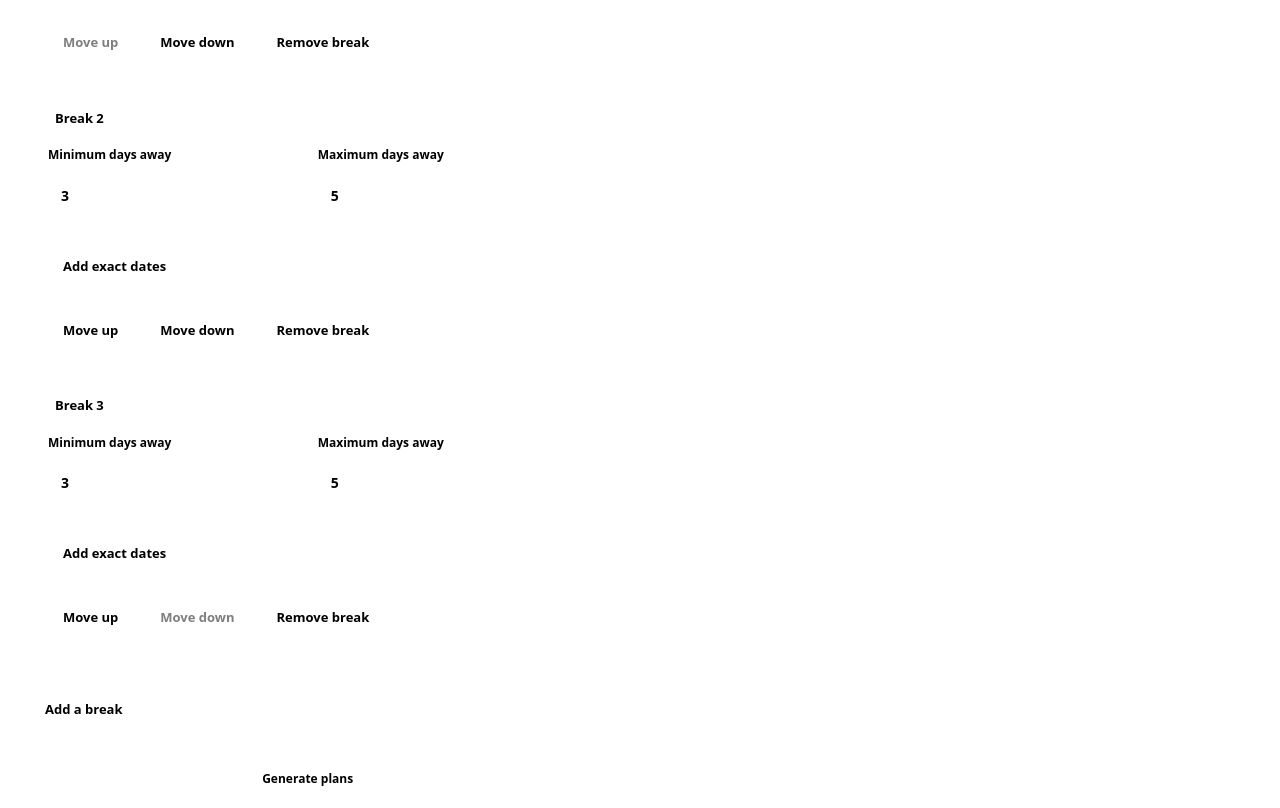
Test: whole-plan selection changes the year view and lock action together
This screenshot has width=1280, height=808.
(page scrolled)
Step 1. Click the button "Generate plans" → (308, 779), box [30,756,585,802]
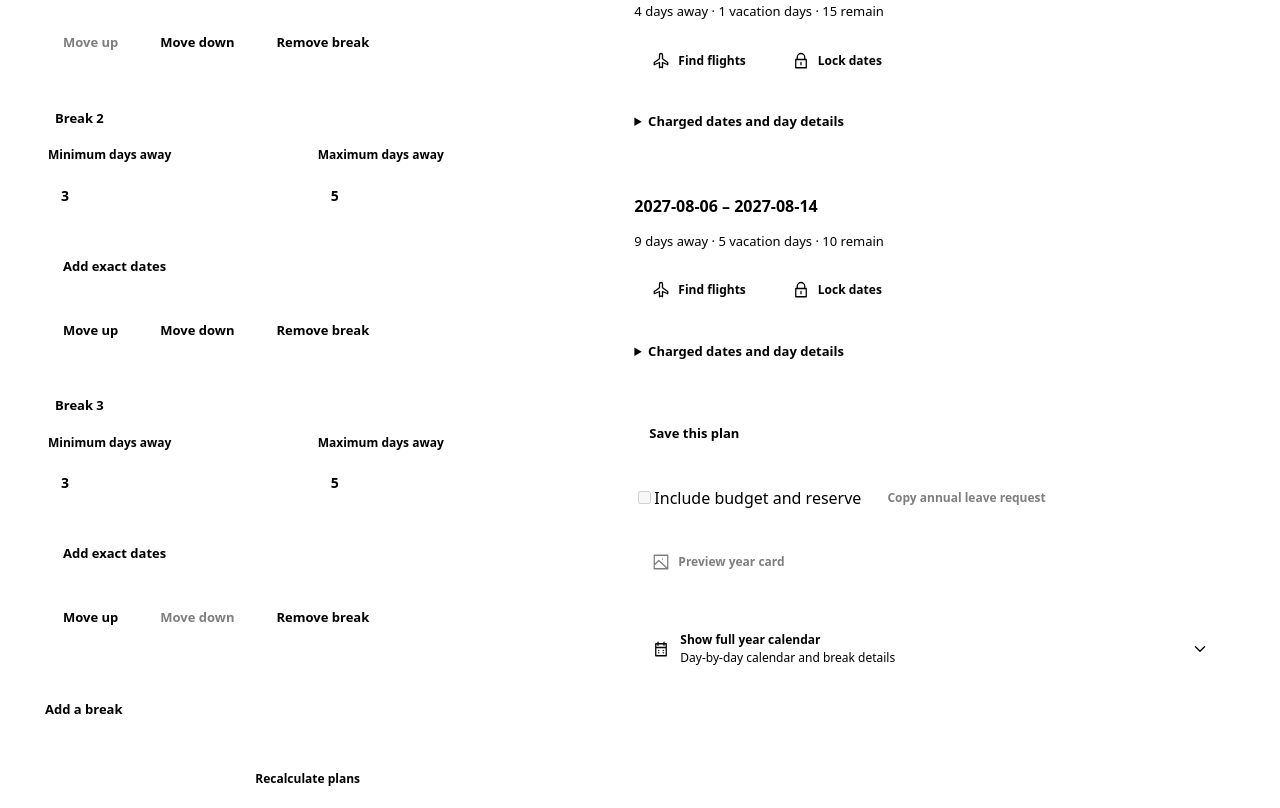
Step 2. Click the button "Show full year calendar" → (750, 640), box [634,619,1227,679]
(page scrolled)
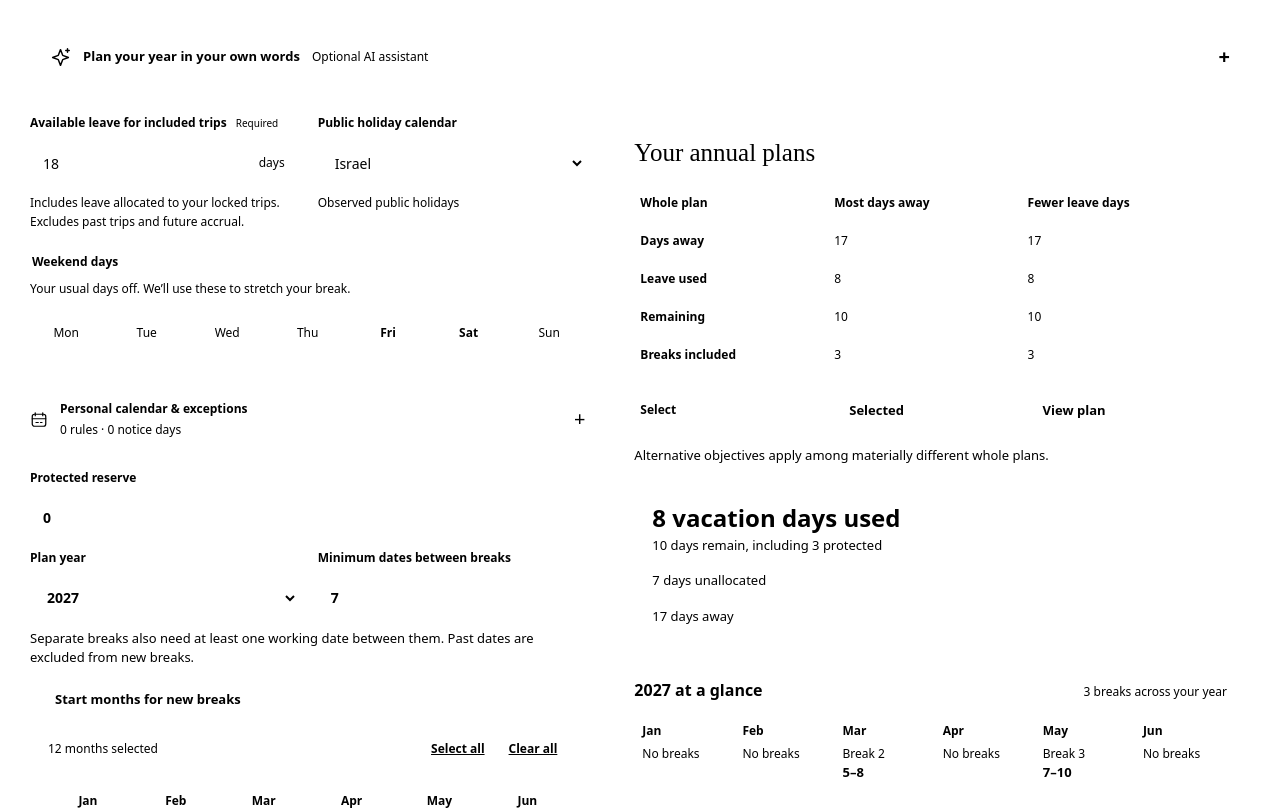
Step 3. Click the button with aria-label "View Fewer leave days" → (1074, 410), box [1028,388,1120,432]
(page scrolled)
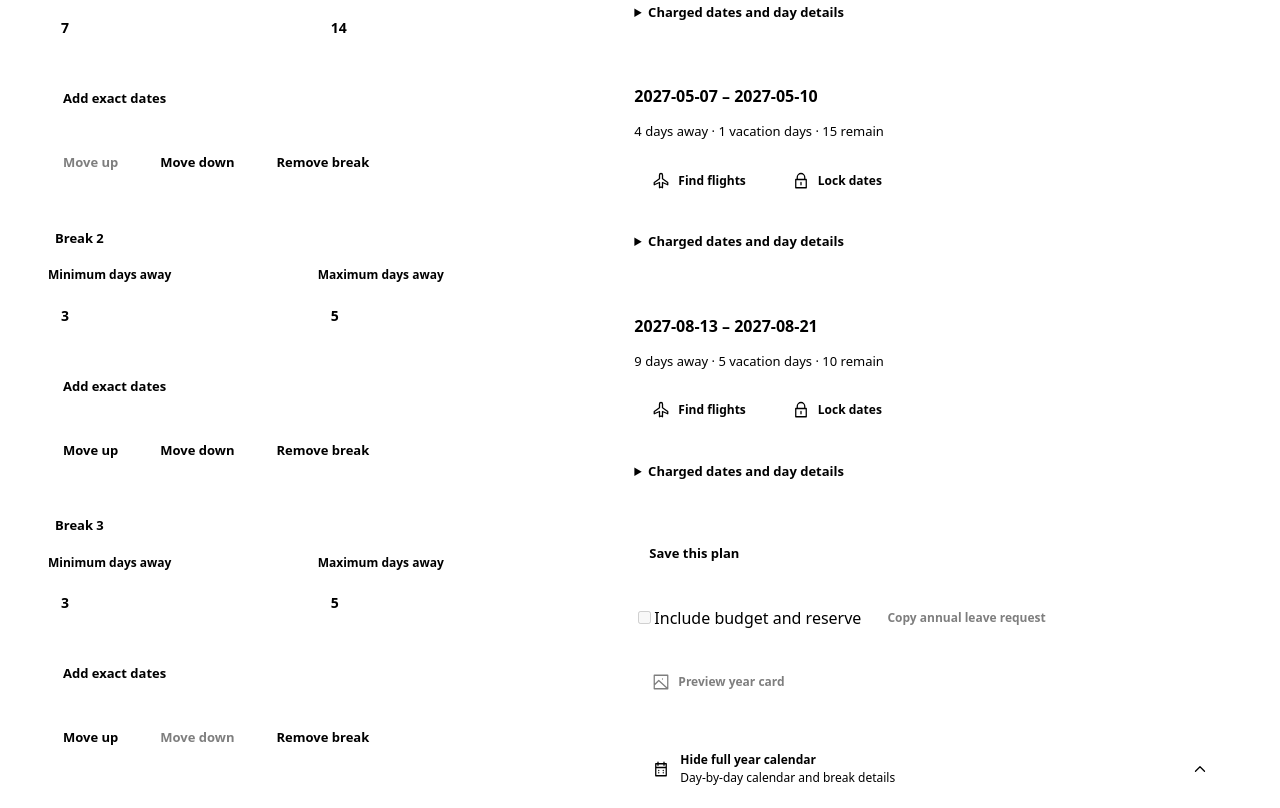
Now the button "Hide full year calendar" is expanded, box [634,739,1227,799]
Now the heading "2027-08-13 – 2027-08-21" is shown, box [634,315,818,337]
Step 4. Click the button with aria-label "Lock Break 1 dates" → (837, 410), box [774,387,900,433]
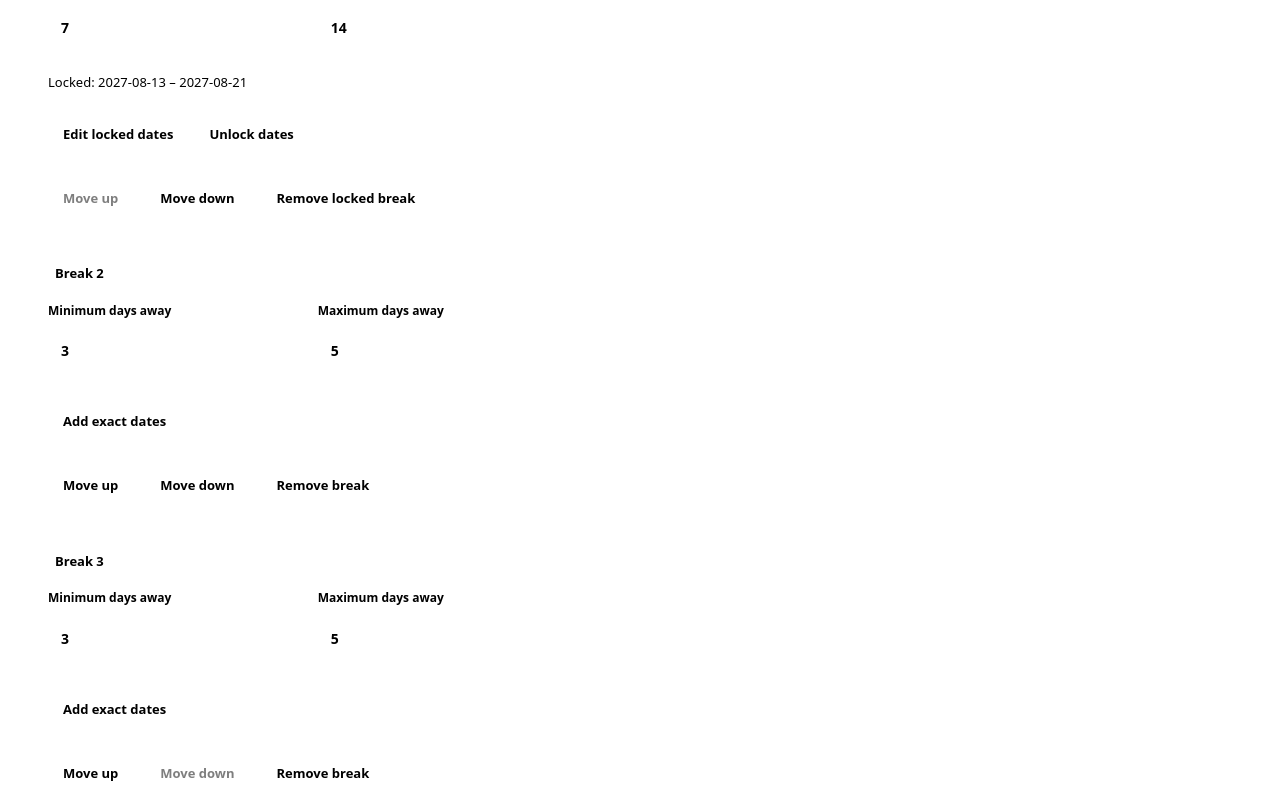
Now the text "Locked: 2027-08-13 – 2027-08-21" is shown, box [48,73,247,91]
